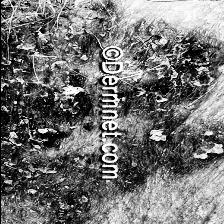Potentially Malignant Skin Tumors: (0, 48, 94, 173)
